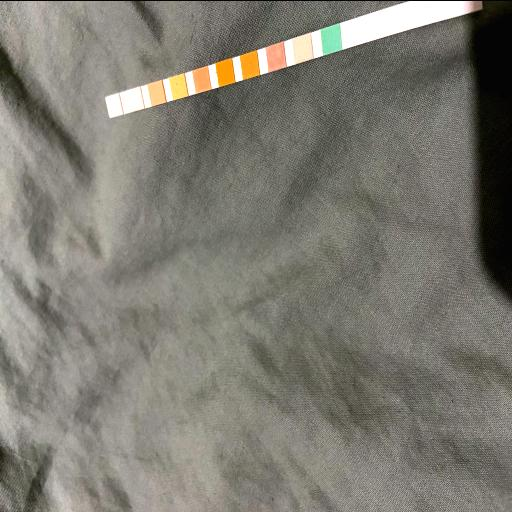Bilirubin: (294, 37, 312, 58)
Blood: (218, 61, 232, 81)
Glucose: (322, 27, 341, 49)
Ketone: (268, 45, 284, 67)
Leukocytes: (108, 95, 120, 114)
Nitrite: (130, 89, 142, 107)
Protein: (172, 76, 184, 96)
SpGravity: (242, 54, 258, 74)
Urobilinogen: (151, 82, 163, 102)
pH: (195, 68, 208, 88)
strip: (105, 0, 484, 118)
